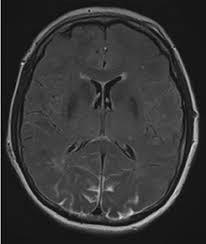Normal_Brain: (1, 3, 206, 244)
